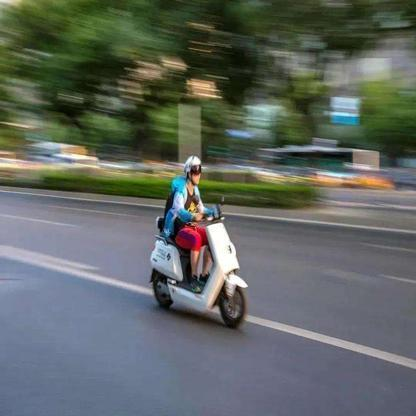target: (148, 152, 251, 329)
